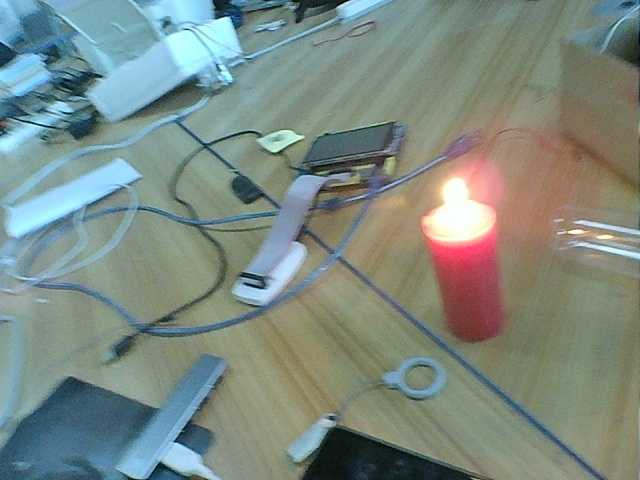candle: (406, 227, 522, 349)
fire: (424, 177, 485, 224)
